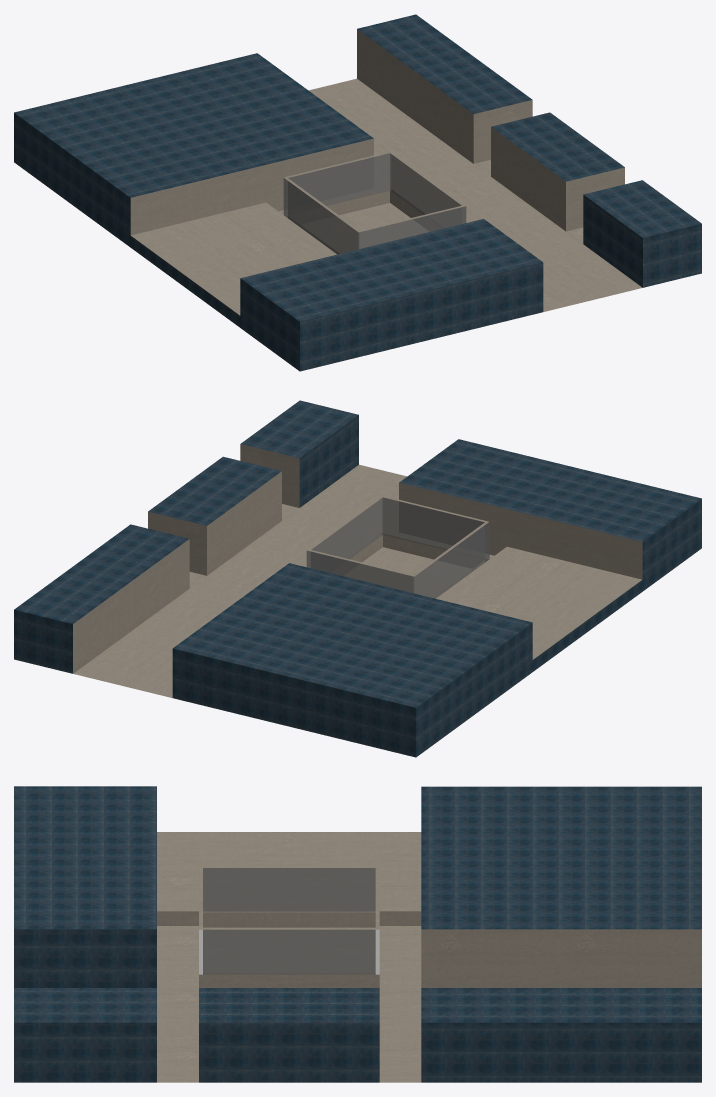
File: school.gltf
3 views of the same model, one above another, from view 1: azimuth 30°, elevation 25°; view 2: azimuth 150°, elevation 25°; view 3: azimuth 270°, elevation 25° (orthographic). The views are drawn at different scales.
Parts seen in each view (by area): view 1: Plane; view 2: Plane; view 3: Plane.
Part boxes in pixels (bbox=[...]): Plane: bbox=[14, 14, 701, 371]; Plane: bbox=[14, 400, 701, 757]; Plane: bbox=[14, 786, 701, 1082].
Bounding box in the file's own units: 3.97 × 0.47 × 4.89.
3 materials, 2 textured.
